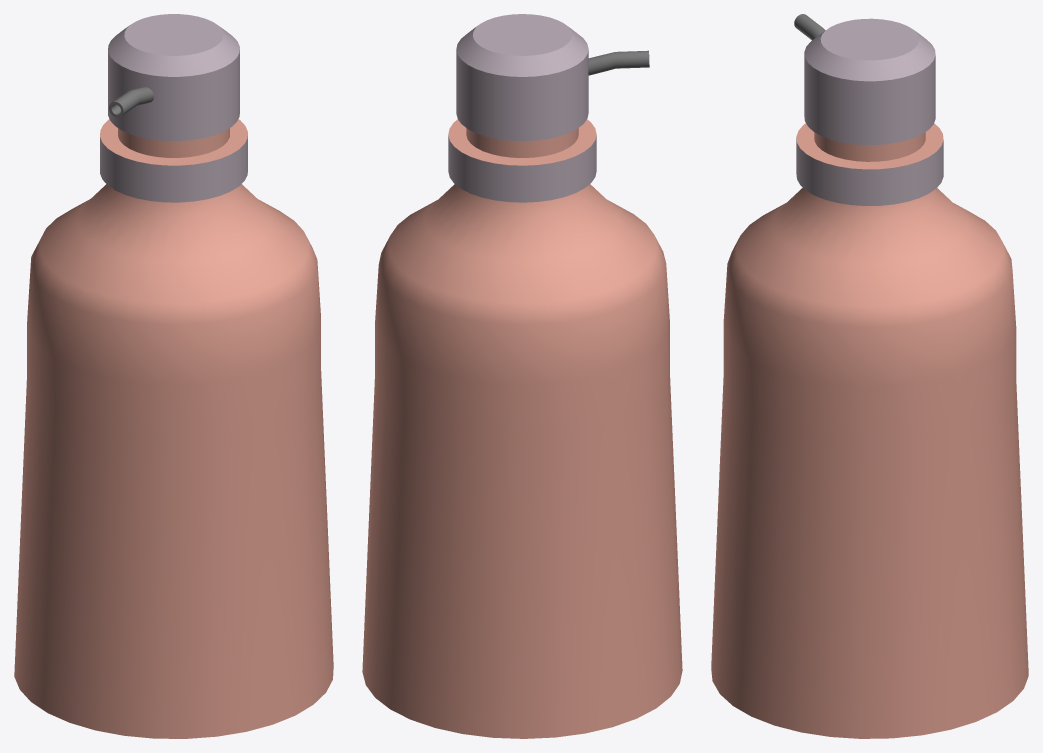
The model's file is soap shump asset.fbx.
3 views of the same model, side by side, from view 1: azimuth 30°, elevation 25°; view 2: azimuth 150°, elevation 25°; view 3: azimuth 270°, elevation 25° (orthographic).
Visible parts, largest first — view 1: soap, soap metal part; view 2: soap, soap metal part; view 3: soap, soap metal part.
Part boxes in pixels (box(x1,y1,x2,y2)): soap: box(14, 119, 333, 738); soap metal part: box(100, 14, 247, 202); soap: box(362, 119, 682, 738); soap metal part: box(448, 14, 649, 202); soap: box(711, 123, 1028, 738); soap metal part: box(794, 14, 943, 205).
Bounding box in the file's own units: 63.68 × 140 × 63.68.
